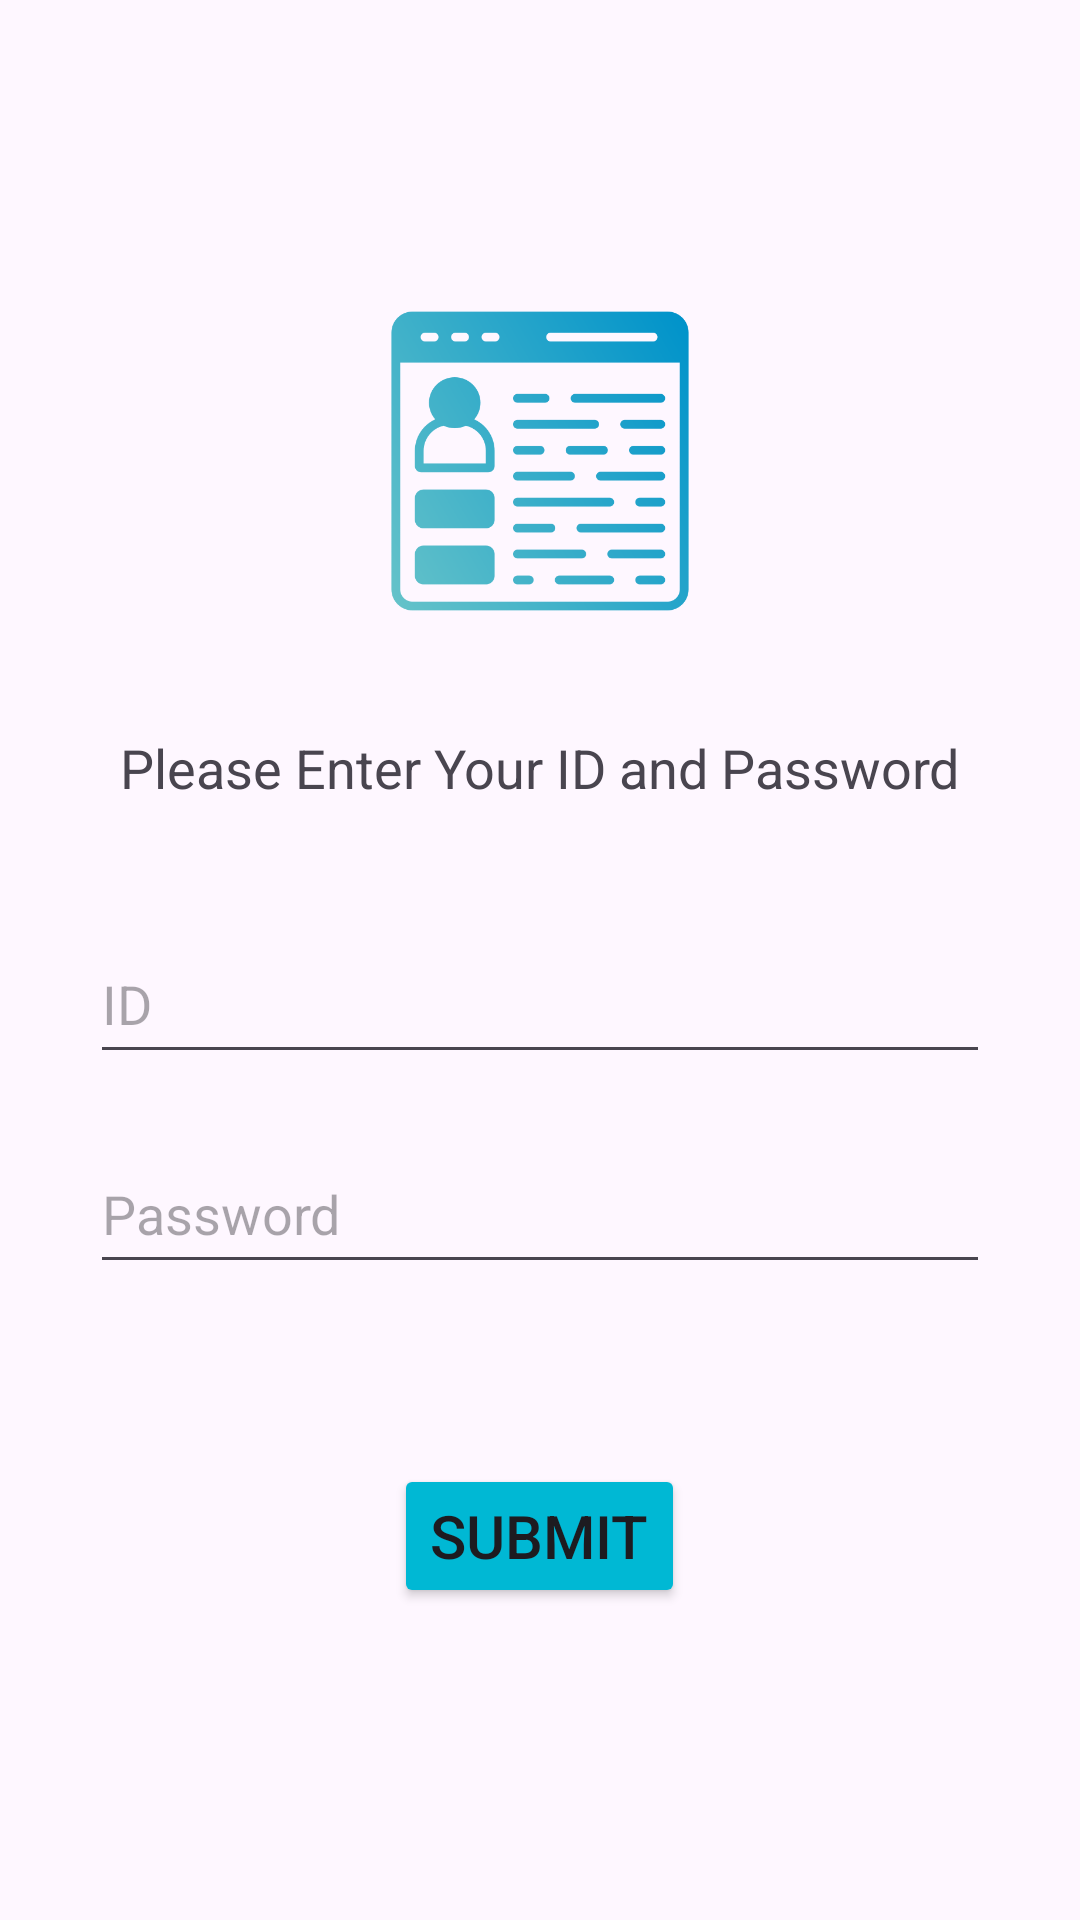

Icon click points for this 1080w x 1920h phone screenshot, format point (x, y):
administration: point (540, 461)
